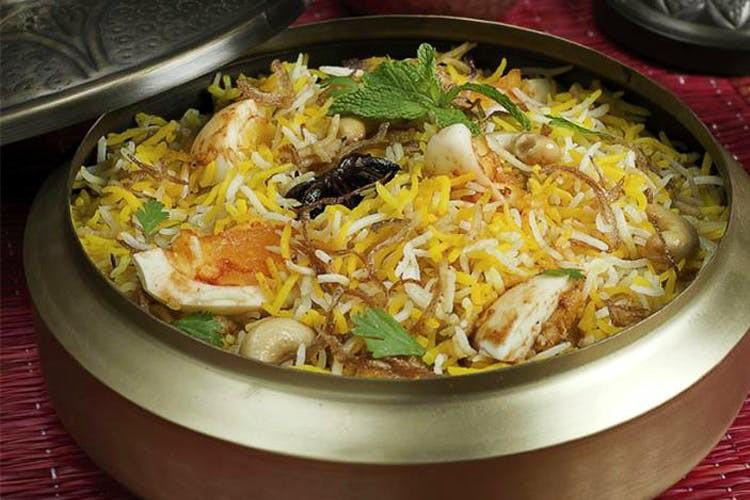Biryani: (76, 27, 723, 377)
